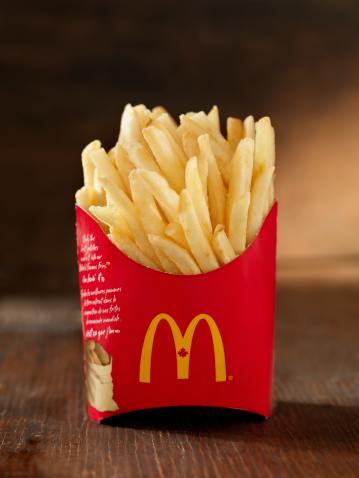mcdonalds: (134, 309, 228, 389)
